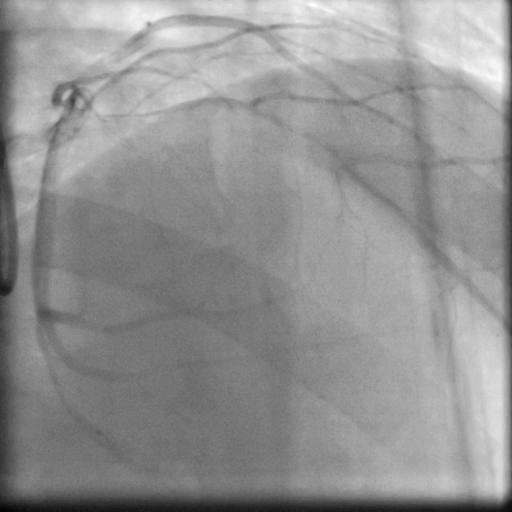Stenosis: (72, 51, 125, 80)
